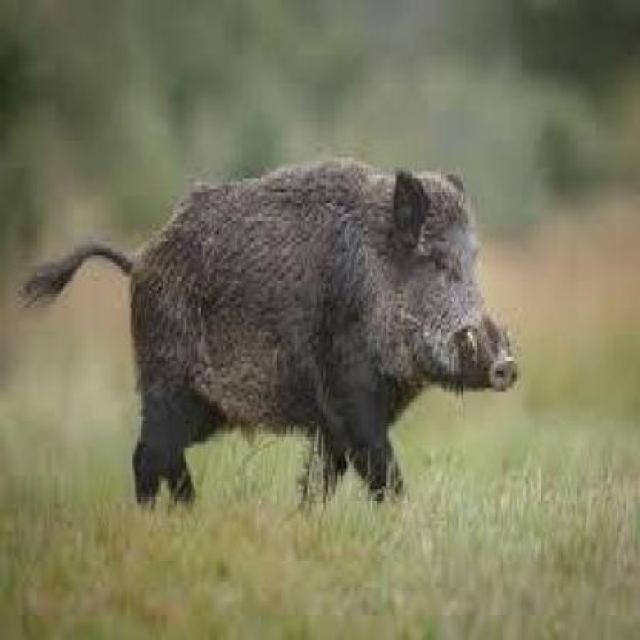wildboar: (12, 137, 530, 526)
